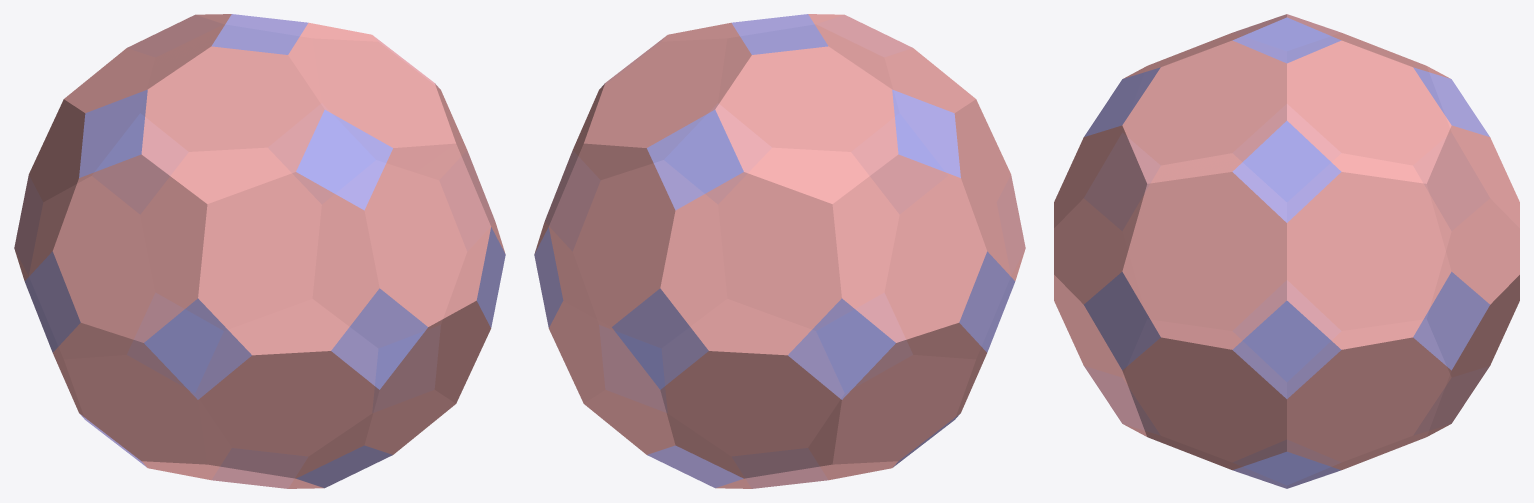
Rendered from TruncatedDeltoidalIcositetrahedron.obj.
3 views of the same model, side by side, from view 1: azimuth 30°, elevation 25°; view 2: azimuth 150°, elevation 25°; view 3: azimuth 270°, elevation 25° (orthographic). The views are drawn at different scales.
Bounding box in the file's own units: 6.03 × 6.03 × 6.03.
